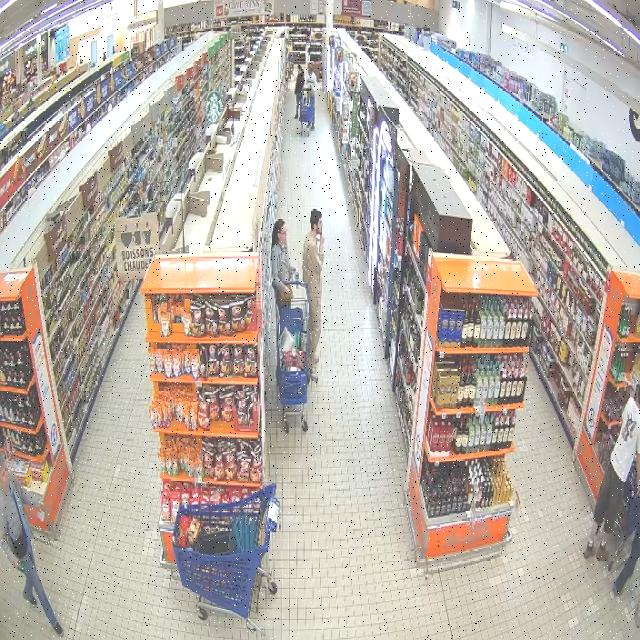hands: (283, 288, 293, 299)
person: (0, 451, 63, 636), (584, 388, 639, 560), (302, 209, 324, 379), (272, 219, 296, 302), (295, 66, 305, 118)
